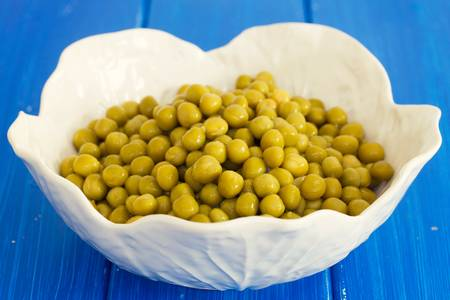boiled peas: (68, 84, 373, 217)
